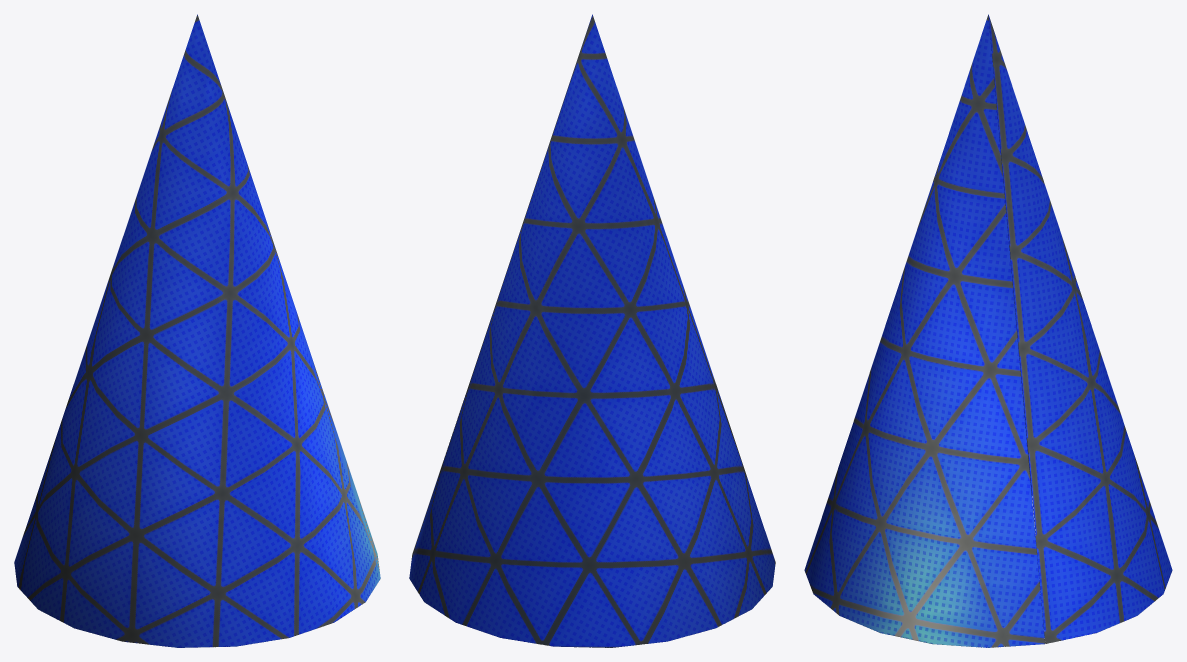
Rendered from partyhatlow.fbx.
3 views of the same model, side by side, from view 1: azimuth 30°, elevation 25°; view 2: azimuth 150°, elevation 25°; view 3: azimuth 270°, elevation 25° (orthographic).
Parts seen in each view (by area): view 1: pCone1; view 2: pCone1; view 3: pCone1.
Part boxes in pixels (box(x1,y1,x2,y2)): pCone1: box(14, 14, 380, 647); pCone1: box(409, 14, 775, 647); pCone1: box(804, 14, 1172, 647).
Bounding box in the file's own units: 166 × 276 × 166.
